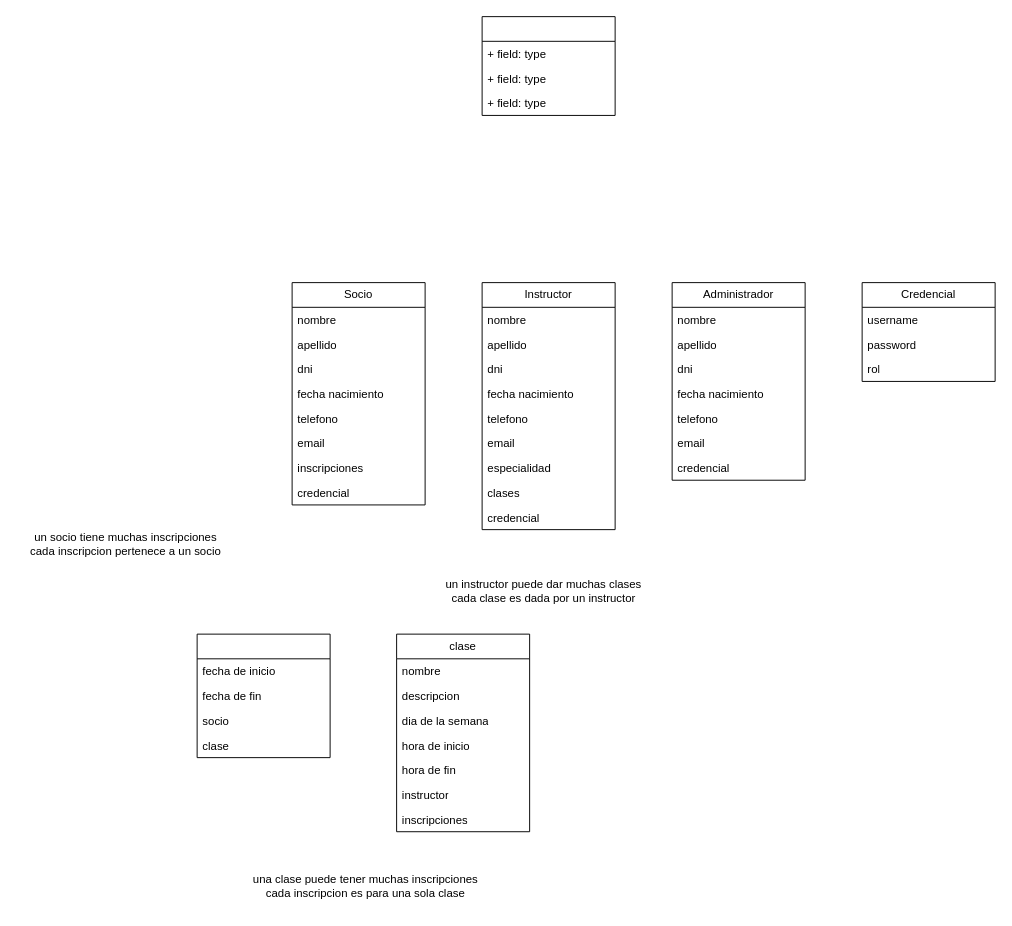
The diagram is 1012 pixels wide and 926 high, and some of its shapes have lost their labels. Each missing label, with the box of its shape:
inscripcion: (196, 633, 330, 758)
Usuario: (481, 16, 615, 115)
